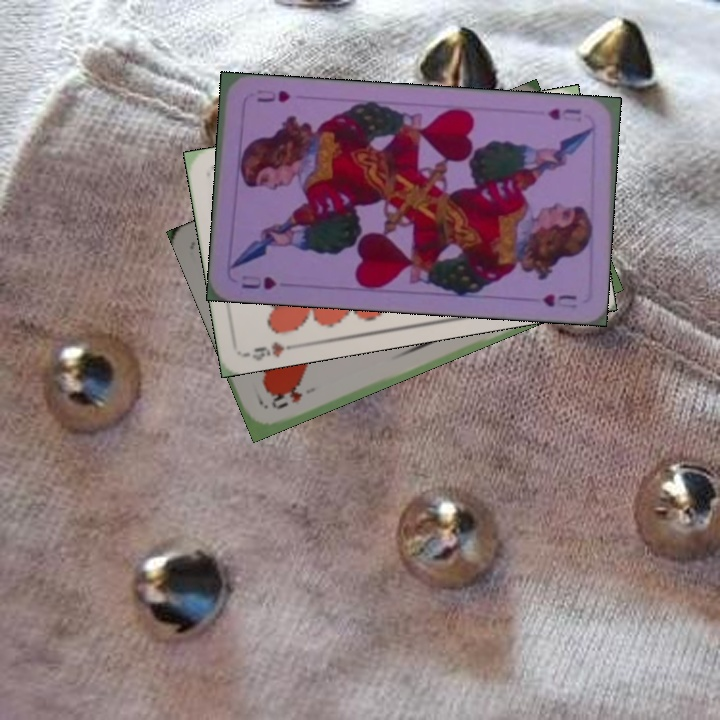H9: (248, 337, 302, 363)
HO: (267, 387, 305, 413)
HU: (237, 271, 279, 293), (544, 104, 584, 124)
